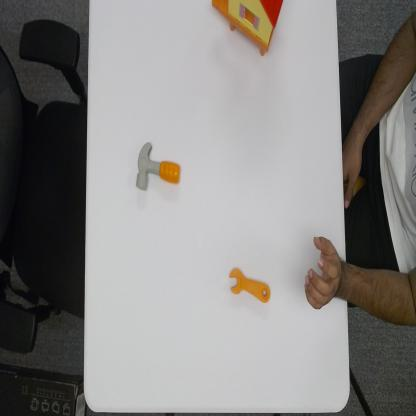Hammer: (135, 141, 182, 193)
Hand: (304, 232, 346, 312)
House: (210, 0, 285, 57)
Screwdriver: (228, 265, 272, 305)
